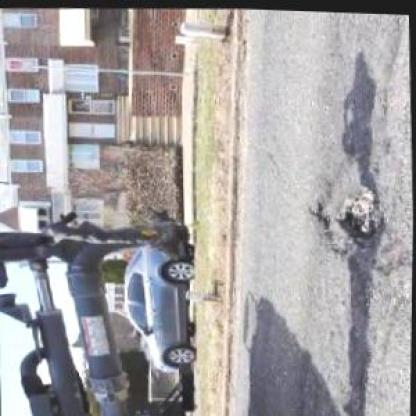pothole: (309, 172, 391, 259)
